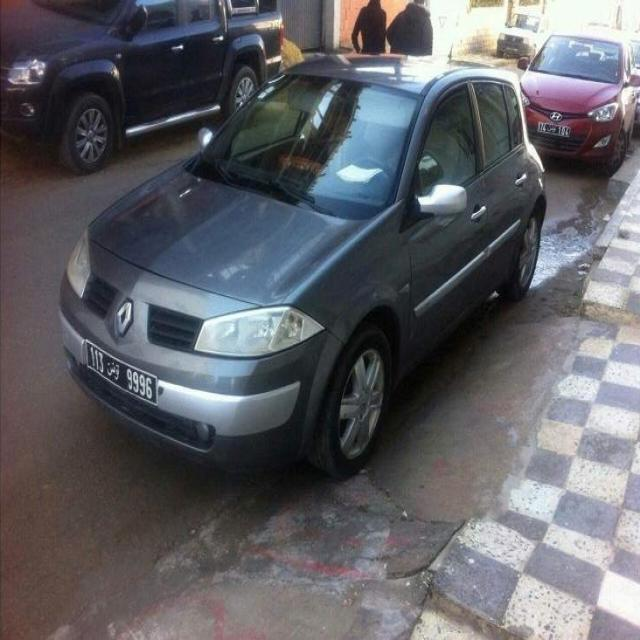licence plate: (86, 342, 159, 407)
